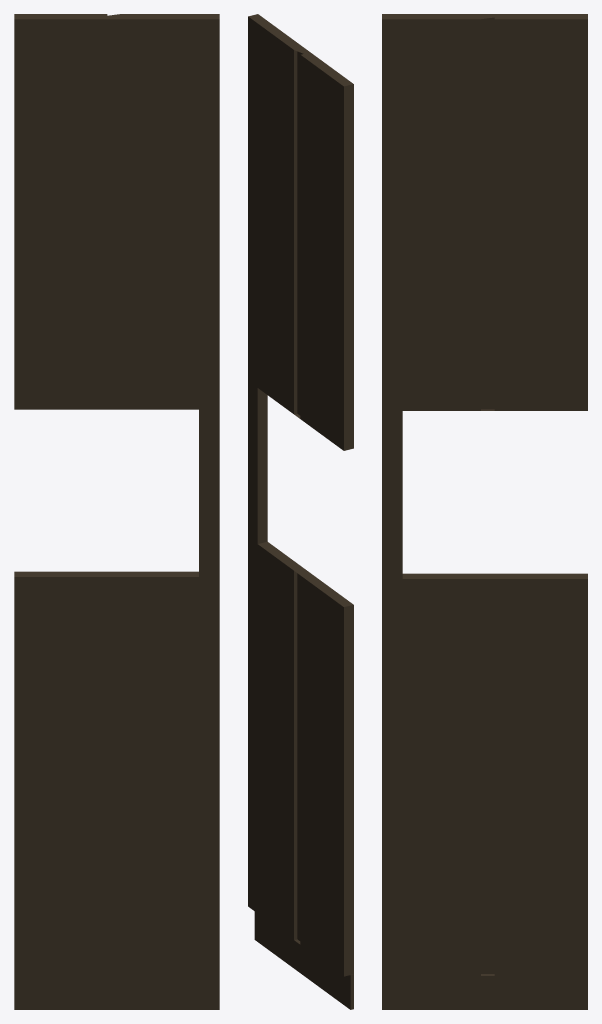
File: Counter_8_Exhibition_Side_Treatment_Dispaly_W2_2_Brown.FBX
The picture shows the model from 3 angles, left to right: view 1: azimuth 90°, elevation 25°; view 2: azimuth 210°, elevation 25°; view 3: azimuth 270°, elevation 25°; orthographic projection. The views are drawn at different scales.
Parts seen in each view (by area): view 1: Counter_8_Exhibition_Side_Treatment_Dispaly_W2_2_Brown; view 2: Counter_8_Exhibition_Side_Treatment_Dispaly_W2_2_Brown; view 3: Counter_8_Exhibition_Side_Treatment_Dispaly_W2_2_Brown.
Boxes of the visible parts, x1,y1,x2,y2 form: Counter_8_Exhibition_Side_Treatment_Dispaly_W2_2_Brown: (14,14,219,1009); Counter_8_Exhibition_Side_Treatment_Dispaly_W2_2_Brown: (248,14,353,1009); Counter_8_Exhibition_Side_Treatment_Dispaly_W2_2_Brown: (382,14,587,1009).
Size of the model in its own units: 3 by 267 by 50.
